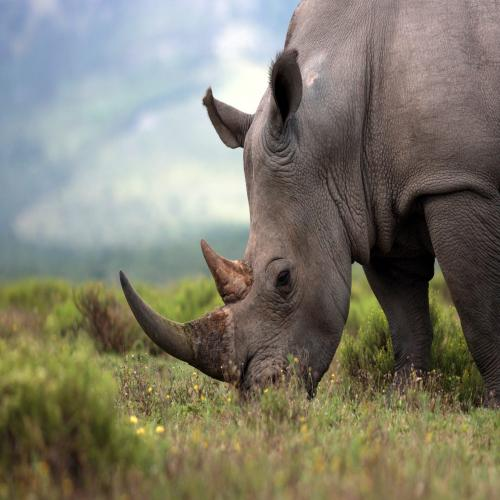rhino-endangered: (120, 0, 500, 408)
